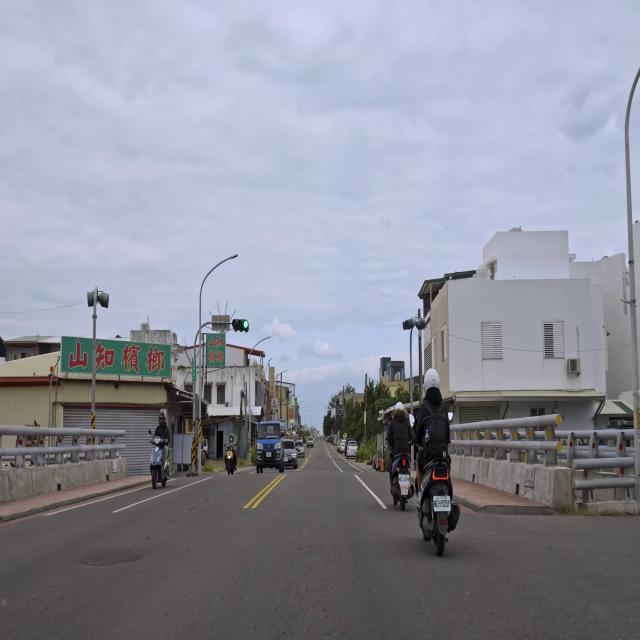green light: (232, 316, 249, 332)
